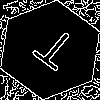T: (25, 25, 81, 79)
